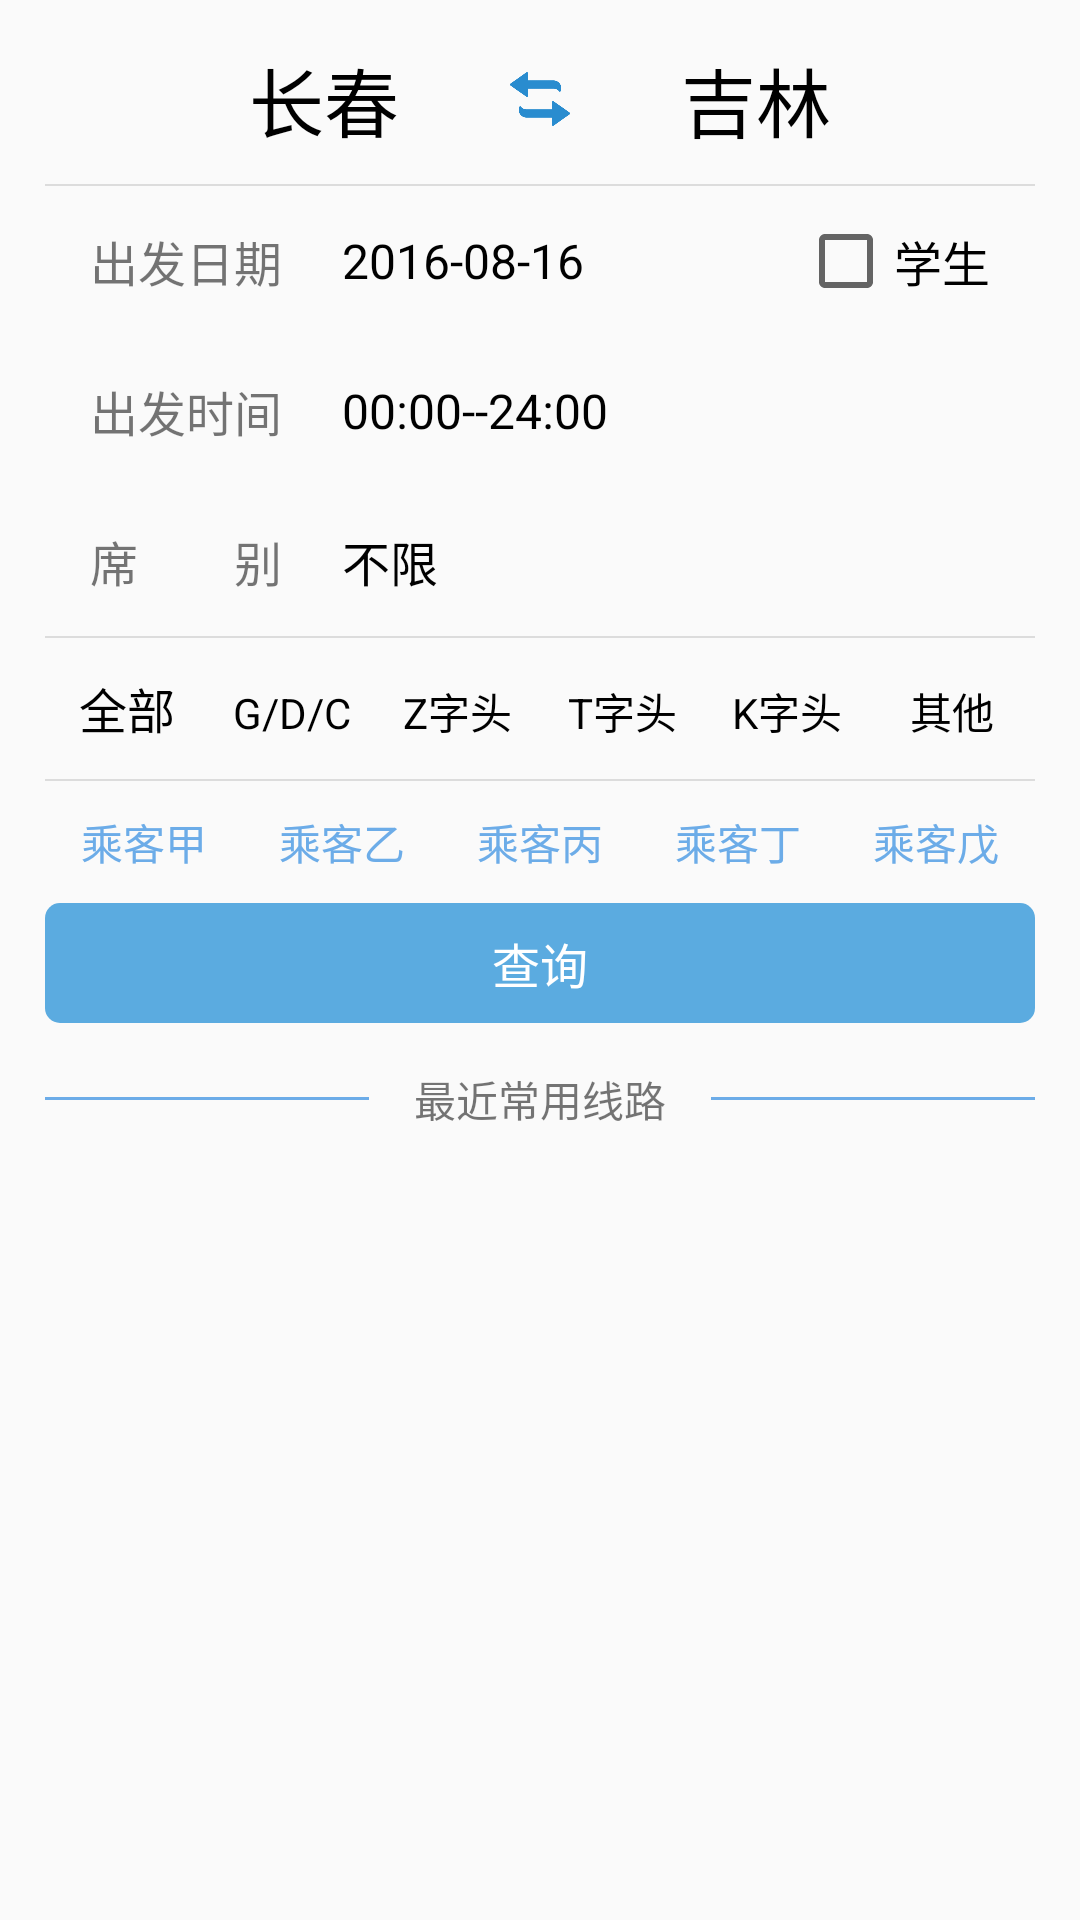

Icons on this 1080w x 1920h Android screen, each with its box as (x1, y1, x2, y2):
station exchange: (510, 72, 570, 126)
